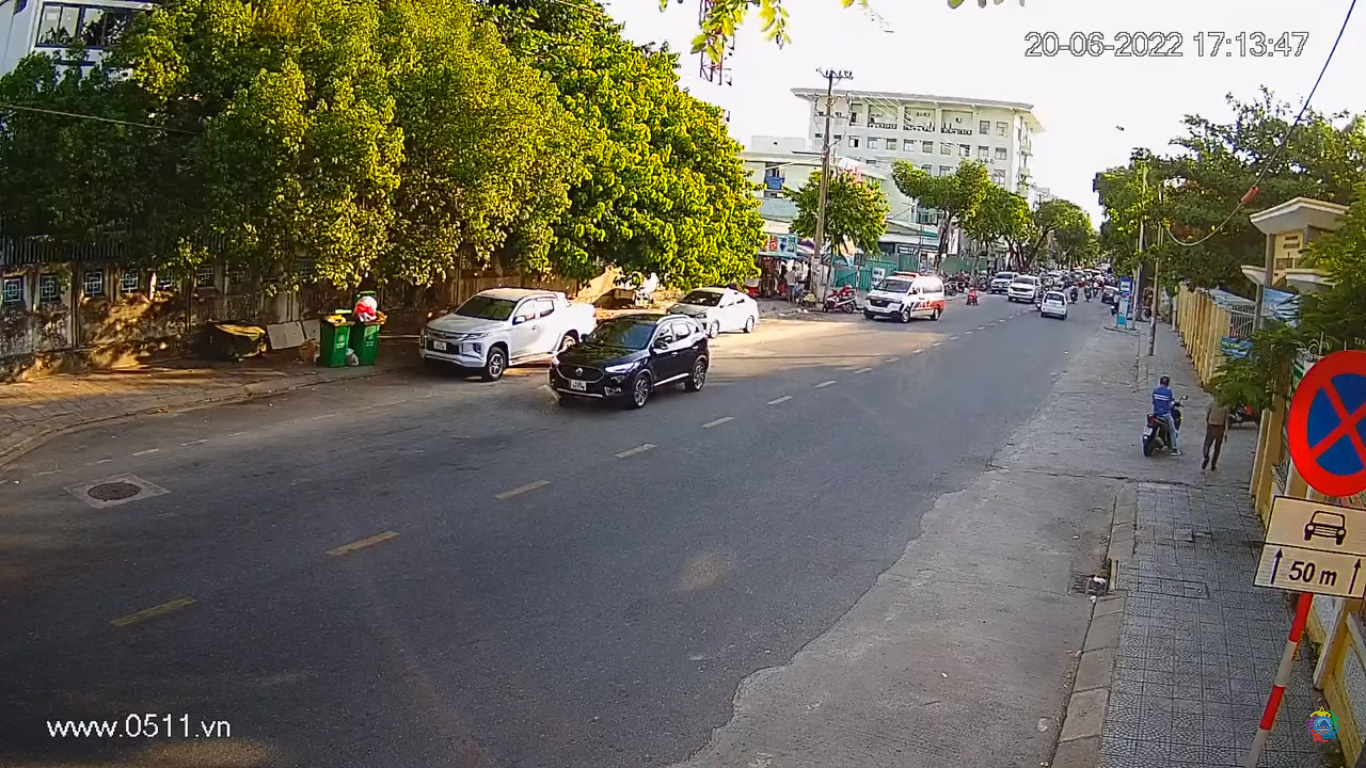car: (549, 309, 708, 409)
